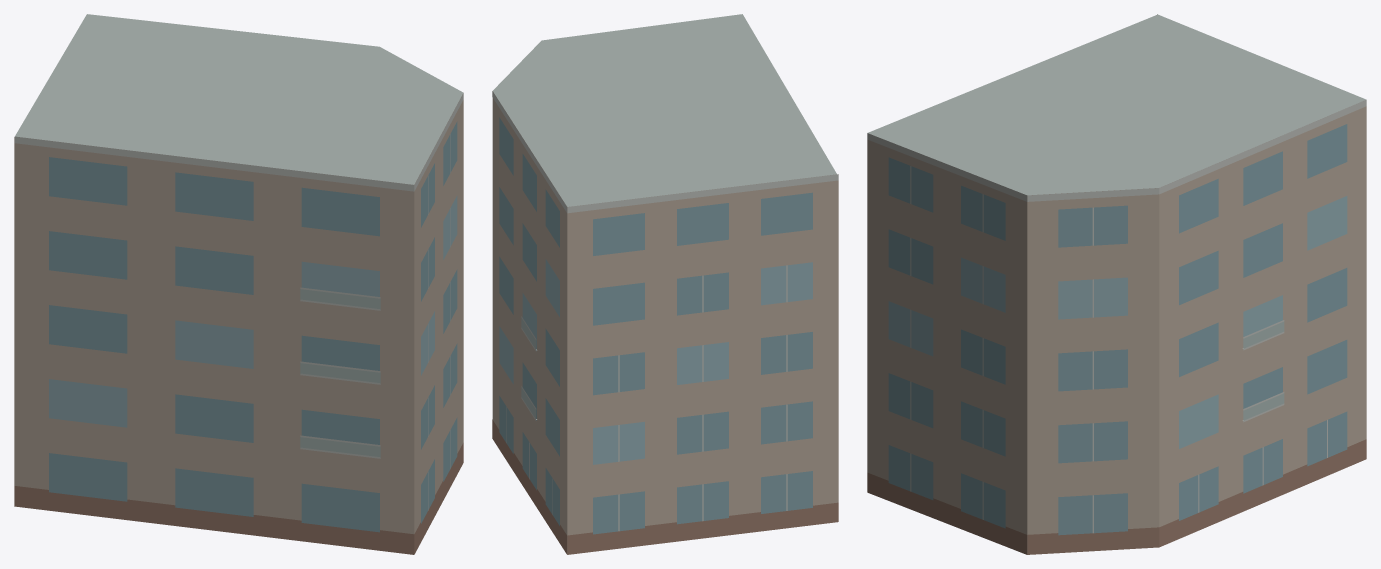
The model's file is survey-upis-32946421.glb.
3 renders of one model, left to right at view 1: azimuth 30°, elevation 25°; view 2: azimuth 150°, elevation 25°; view 3: azimuth 270°, elevation 25°, orthographic. The views are drawn at different scales.
Parts seen in each view (by area): view 1: survey-upis-32946421.tmp; view 2: survey-upis-32946421.tmp; view 3: survey-upis-32946421.tmp.
Part boxes in pixels (bbox=[...]): survey-upis-32946421.tmp: bbox=[14, 14, 463, 554]; survey-upis-32946421.tmp: bbox=[492, 14, 838, 554]; survey-upis-32946421.tmp: bbox=[867, 14, 1366, 554].
Bounding box in the file's own units: 14.51 × 13.4 × 16.87.
